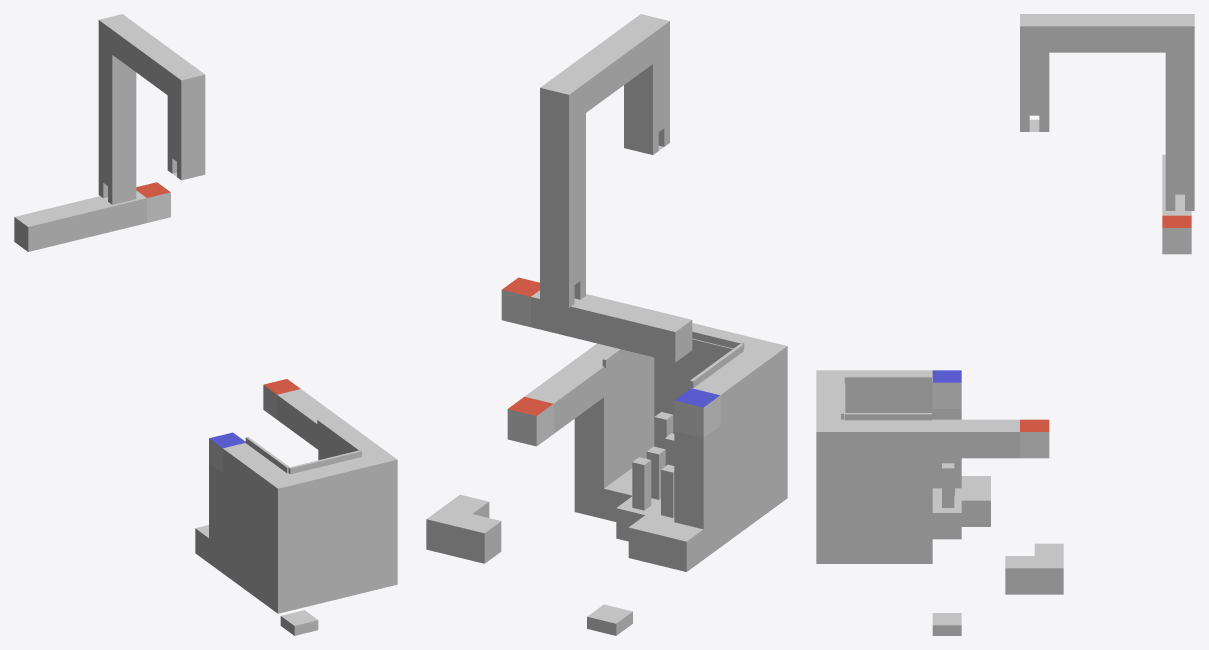
Rendered from AGPNewLeveldec4th.fbx.
3 views of the same model, side by side, from view 1: azimuth 30°, elevation 25°; view 2: azimuth 150°, elevation 25°; view 3: azimuth 270°, elevation 25° (orthographic). The views are drawn at different scales.
Visible parts, largest first — view 1: Cube.116, Cube.003, Cube.113, Cube.106, Cube.117, Cube.118, Cube.103, Cube.104, Cube.105, Cube.102, Cube.120, Cube.002 (+44 smaller); view 2: Cube.073, Cube.076, Cube.113, Cube.072, Cube.098, Cube.108, Cube.069, Cube.070, Cube.048, Cube.049, Cube.071, Cube.102 (+63 smaller); view 3: Cube.099, Cube.007, Cube.095, Cube.096, Cube.098, Cube.047, Cube.051, Cube.068, Cube.072, Cube.074, Cube.077, Cube.108 (+38 smaller).
Part boxes in pixels (x1,y1,x2,y2): Cube.116: (167,64,205,105); Cube.003: (264,473,301,513); Cube.113: (14,211,51,251); Cube.106: (98,70,136,104); Cube.117: (167,95,205,130); Cube.118: (167,120,205,155); Cube.103: (98,145,136,179); Cube.104: (98,120,136,154); Cube.105: (98,95,136,129); Cube.102: (98,170,136,204); Cube.120: (167,146,205,180); Cube.002: (264,504,301,538); Cube.073: (657,522,703,571); Cube.076: (455,514,501,563); Cube.113: (646,312,692,362); Cube.072: (674,388,720,437); Cube.098: (507,396,553,446); Cube.108: (540,75,585,125); Cube.069: (674,487,720,529); Cube.070: (674,456,720,498); Cube.048: (574,446,620,488); Cube.049: (574,416,620,457); Cube.071: (674,426,720,468); Cube.102: (540,265,585,307); Cube.099: (1162,215,1191,254); Cube.007: (816,419,845,458); Cube.095: (932,419,961,458); Cube.096: (961,419,990,458); Cube.098: (1020,419,1049,458); Cube.047: (874,420,903,458); Cube.051: (903,419,932,458); Cube.068: (1005,556,1034,594); Cube.072: (932,370,961,408); Cube.074: (961,488,990,526); Cube.077: (1034,556,1063,594); Cube.108: (1165,14,1194,52).
Bounding box in the file's own units: 2218 × 4340 × 2600.
